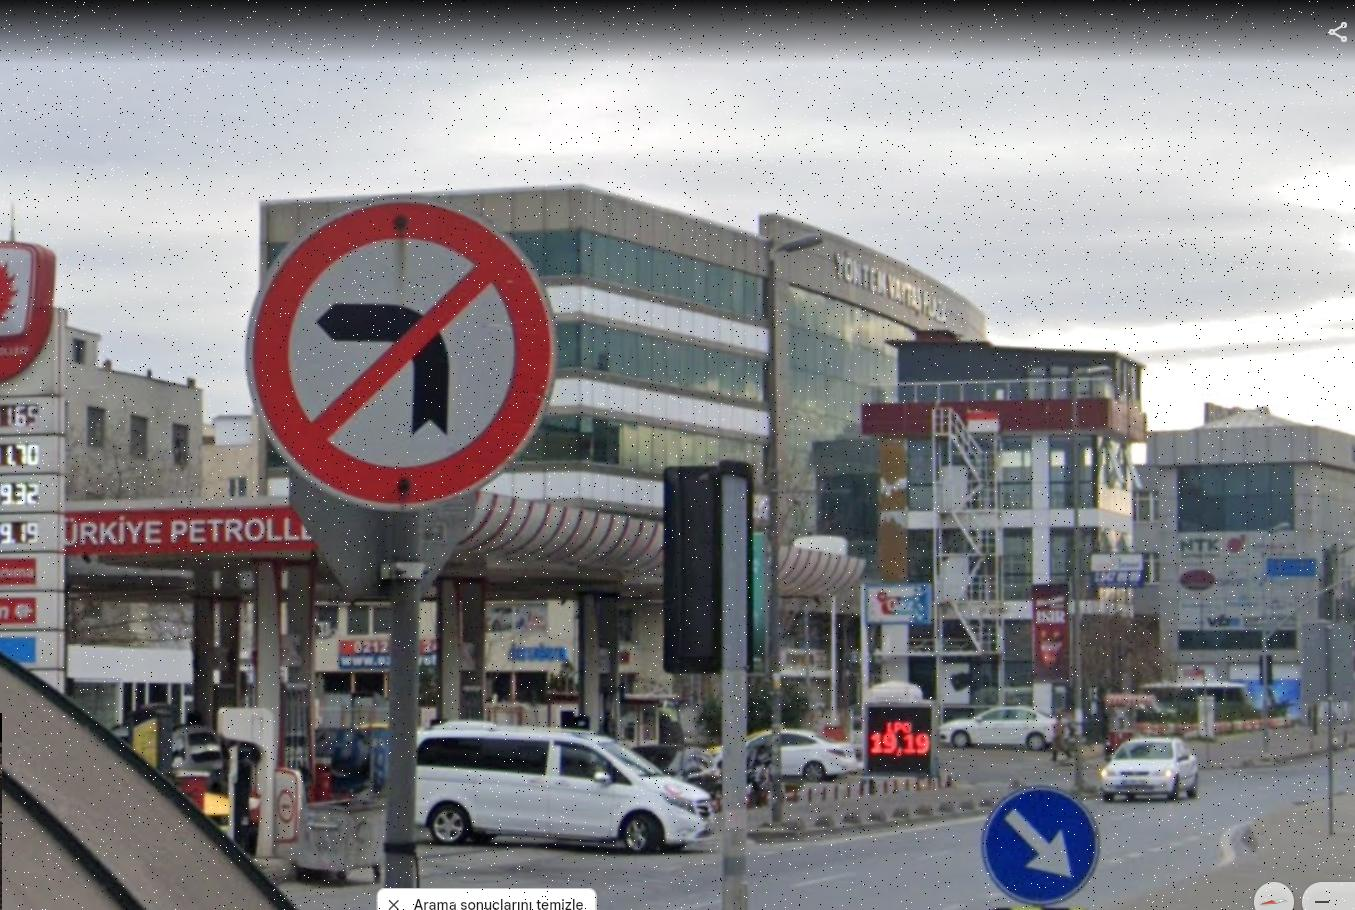leftturnsareforbidden: (257, 204, 555, 489)
